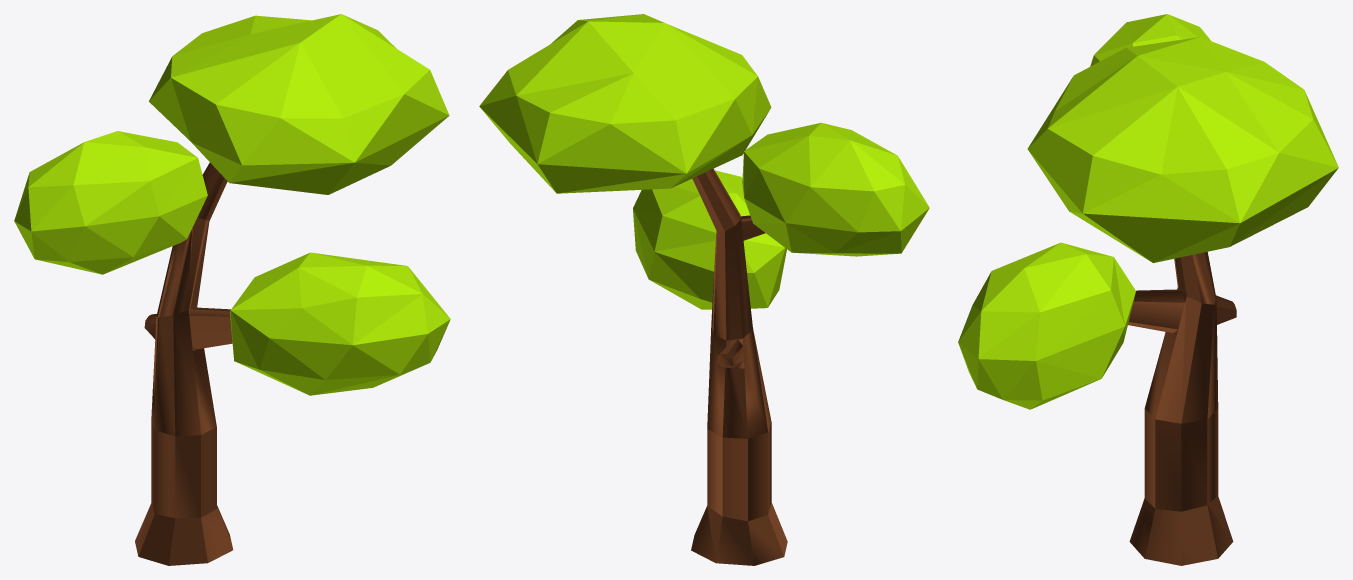
The model's file is drvo1v2.fbx.
3 views of the same model, side by side, from view 1: azimuth 30°, elevation 25°; view 2: azimuth 150°, elevation 25°; view 3: azimuth 270°, elevation 25° (orthographic). The views are drawn at different scales.
Visible parts, largest first — view 1: Sphere_1, Sphere_2, tree_1, Sphere; view 2: Sphere_1, tree_1, Sphere, Sphere_2; view 3: Sphere_1, tree_1, Sphere_2, Sphere.
Boxes of the visible parts, x1=… form: Sphere_1: x1=149, y1=14, x2=449, y2=194; Sphere_2: x1=230, y1=252, x2=450, y2=395; tree_1: x1=135, y1=162, x2=233, y2=565; Sphere: x1=14, y1=131, x2=207, y2=274; Sphere_1: x1=479, y1=14, x2=771, y2=193; tree_1: x1=691, y1=168, x2=787, y2=565; Sphere: x1=742, y1=122, x2=929, y2=256; Sphere_2: x1=633, y1=170, x2=786, y2=309; Sphere_1: x1=1027, y1=37, x2=1338, y2=262; tree_1: x1=1128, y1=252, x2=1236, y2=565; Sphere_2: x1=958, y1=242, x2=1135, y2=409; Sphere: x1=1090, y1=14, x2=1210, y2=66.
Size of the model in its own units: 700 by 805 by 517.
